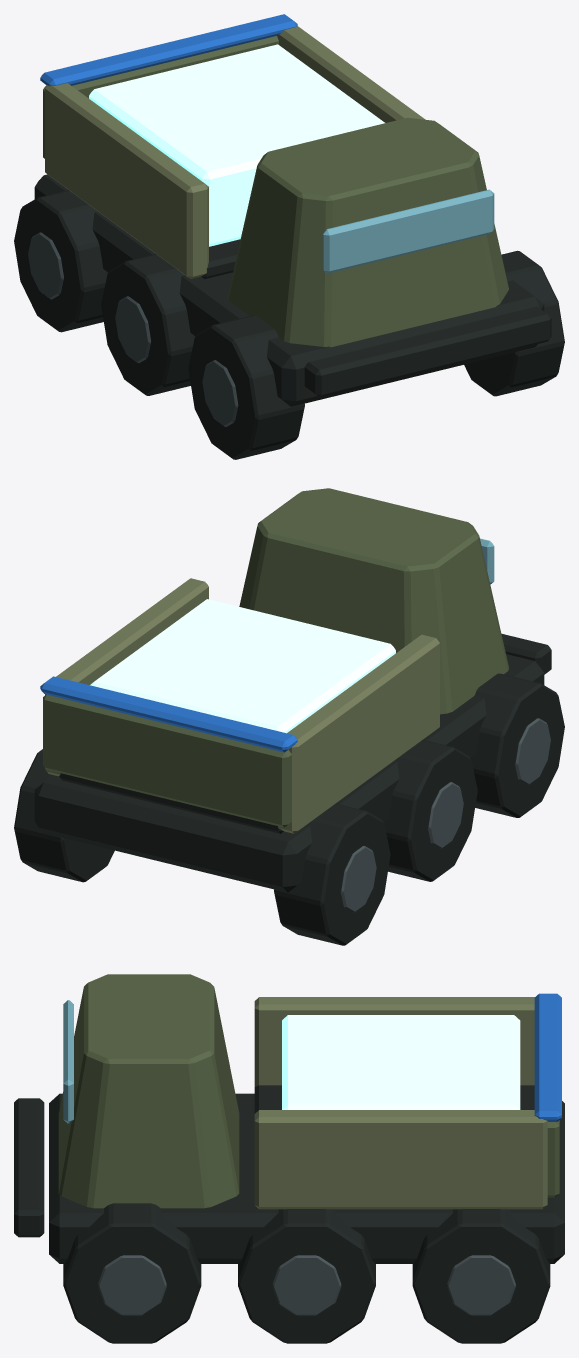
File: h_harv.glb
3 renders of one model, top to bottom at view 1: azimuth 30°, elevation 25°; view 2: azimuth 150°, elevation 25°; view 3: azimuth 270°, elevation 25°, orthographic.
Parts seen in each view (by area): view 1: Hauler, Mineral load; view 2: Hauler, Mineral load; view 3: Hauler, Mineral load.
Part boxes in pixels (<box>): Hauler: <box>14,14,564,459</box>; Mineral load: <box>89,44,384,246</box>; Hauler: <box>14,488,564,945</box>; Mineral load: <box>90,599,395,733</box>; Hauler: <box>14,974,564,1343</box>; Mineral load: <box>282,1015,520,1109</box>.
Bounding box in the file's own units: 2.41 × 1.84 × 3.63.
